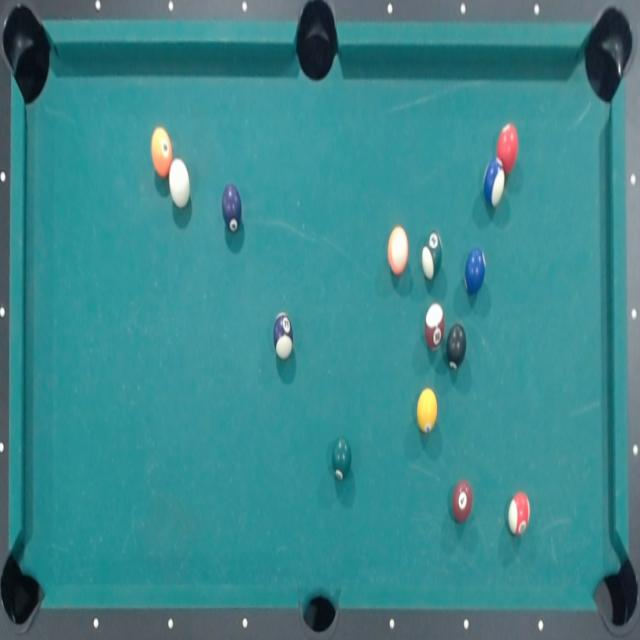black_8ball: (446, 322, 467, 369)
blue_solid: (464, 246, 488, 296)
blue_stripe: (483, 155, 506, 210)
cue_ball: (168, 157, 192, 210)
green_solid: (332, 436, 352, 480)
green_stripe: (420, 231, 444, 281)
maroon_solid: (452, 478, 474, 525)
maroon_stripe: (424, 301, 446, 352)
orange_solid: (150, 126, 175, 176)
orange_stripe: (386, 224, 410, 277)
playr: (221, 182, 244, 233)
purple_solid: (272, 310, 294, 360)
purple_stripe: (496, 121, 519, 173)
red_solid: (507, 490, 532, 539)
red_stripe: (416, 386, 439, 435)
